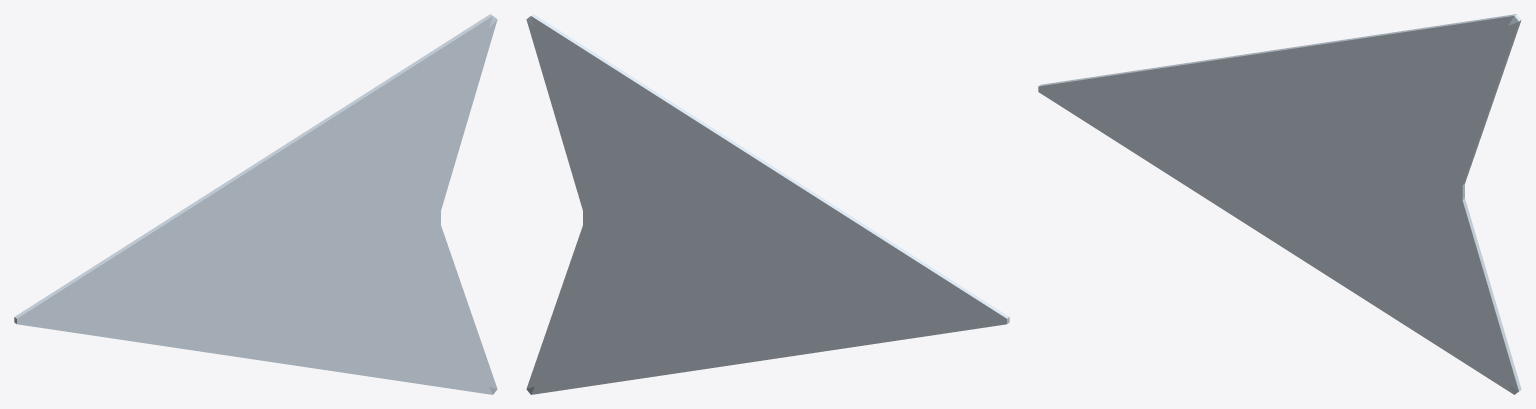
The model's file is Arrow_3D_Icon_01.fbx.
3 renders of one model, left to right at view 1: azimuth 30°, elevation 25°; view 2: azimuth 150°, elevation 25°; view 3: azimuth 330°, elevation 25°, orthographic.
Visible parts, largest first — view 1: Arrow_3D_Icon_01; view 2: Arrow_3D_Icon_01; view 3: Arrow_3D_Icon_01.
Part boxes in pixels (<box>): Arrow_3D_Icon_01: <box>14,14,497,394</box>; Arrow_3D_Icon_01: <box>526,14,1009,394</box>; Arrow_3D_Icon_01: <box>1038,14,1521,394</box>.
Bounding box in the file's own units: 99.66 × 75.12 × 1.71.
